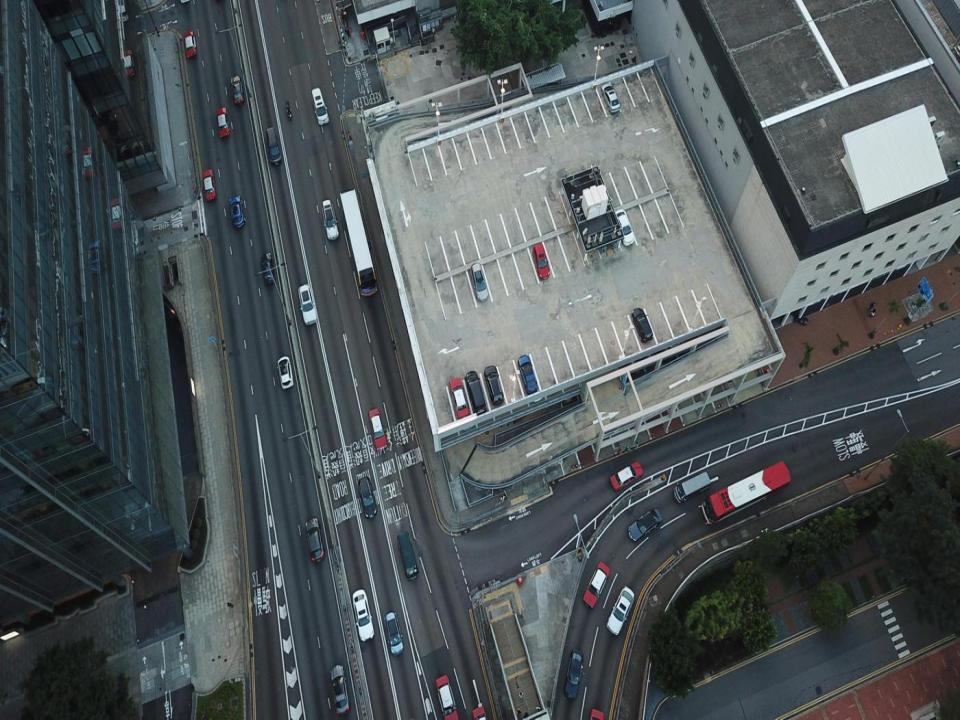bus: (702, 460, 790, 526), (339, 188, 378, 296)
car: (606, 586, 634, 636), (581, 561, 610, 609), (628, 508, 663, 543), (351, 590, 374, 642), (609, 461, 644, 492), (330, 664, 350, 715), (435, 675, 458, 719), (464, 371, 487, 414), (564, 650, 584, 699), (384, 611, 404, 656), (448, 378, 470, 418), (305, 517, 324, 563), (368, 408, 388, 450), (483, 365, 504, 405), (631, 306, 653, 343), (518, 355, 538, 395), (614, 208, 634, 247), (358, 476, 376, 519), (298, 282, 316, 324), (532, 243, 551, 281), (470, 262, 488, 302), (558, 366, 576, 404), (322, 198, 338, 240), (311, 88, 329, 125), (266, 126, 282, 167), (602, 81, 620, 114), (277, 356, 294, 390), (229, 195, 246, 228), (260, 252, 276, 286), (202, 169, 216, 203), (216, 107, 230, 138), (527, 375, 541, 402), (231, 75, 244, 104), (458, 407, 473, 431), (185, 30, 196, 58), (494, 406, 507, 426)
van: (672, 472, 710, 504), (397, 530, 419, 581)
